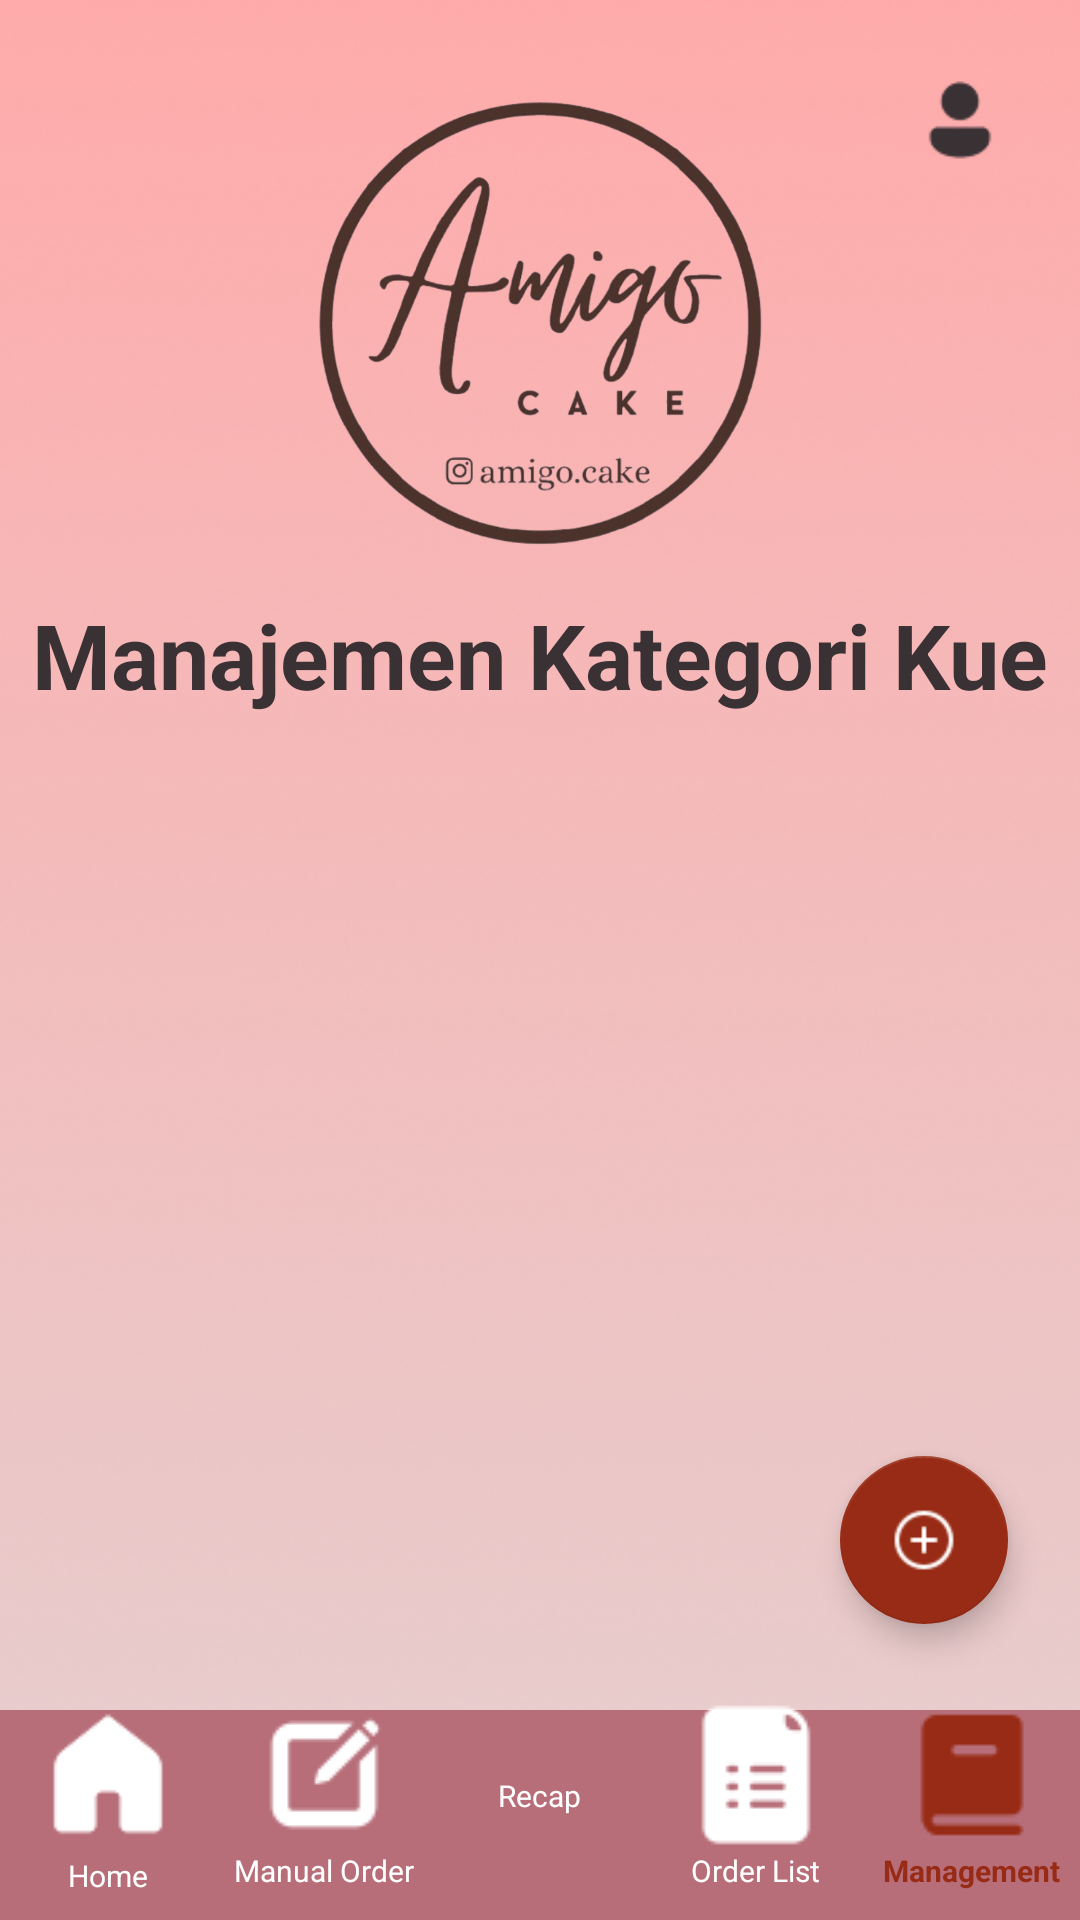

Screen size 1080×1920. Icon name, then its center in pixels as point (x, y):
Admin Profile Icon: point (959, 120)
Tambah Topik: point (924, 1540)
